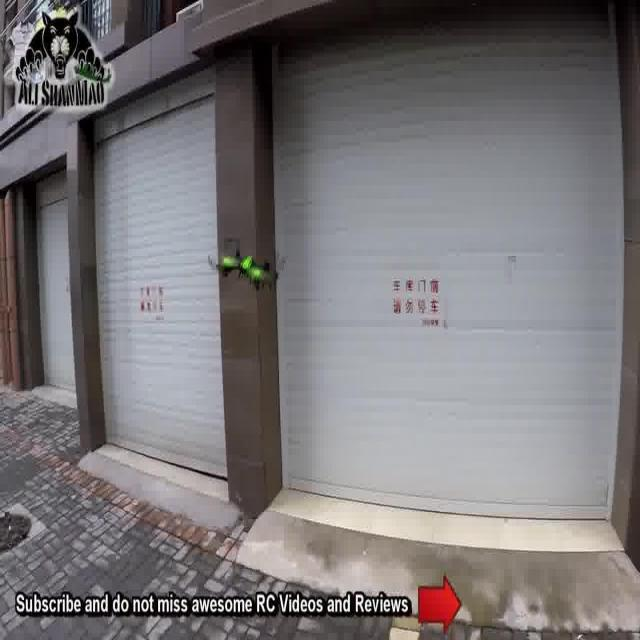drone: (202, 232, 297, 301)
